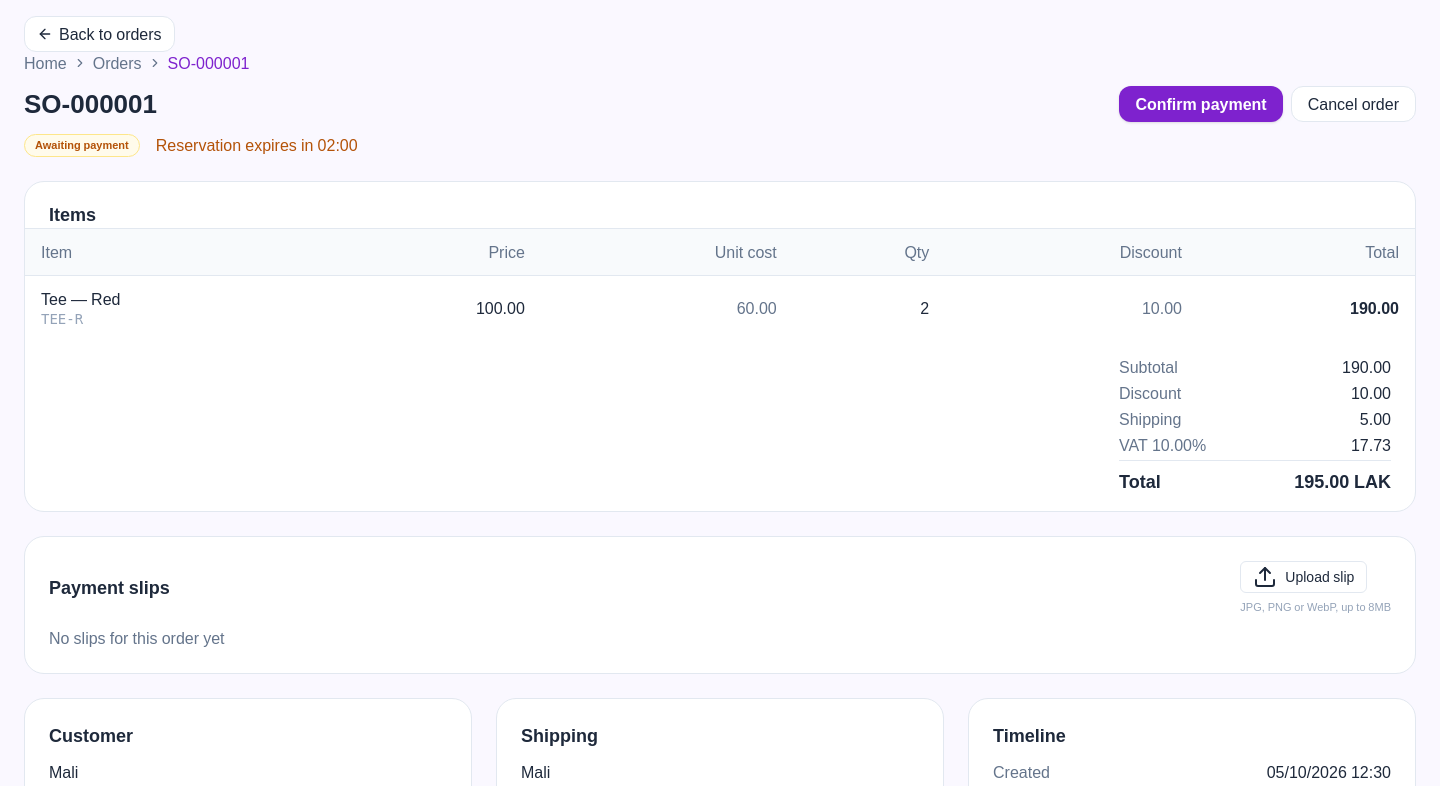
it: OrderDetail: ປຸ່ມຂັ້ນຕໍ່ໄປ › RESERVATION_EXPIRED: ຂໍ້ຄວາມແປ; ປຸ່ມກັບມາໃຊ້ໄດ້ (ບໍ່ຄ້າງ pending)
The width and height of the screenshot is (1440, 786).
Step 1. Click the button "Confirm payment" → (1201,104), box [1119,86,1283,122]
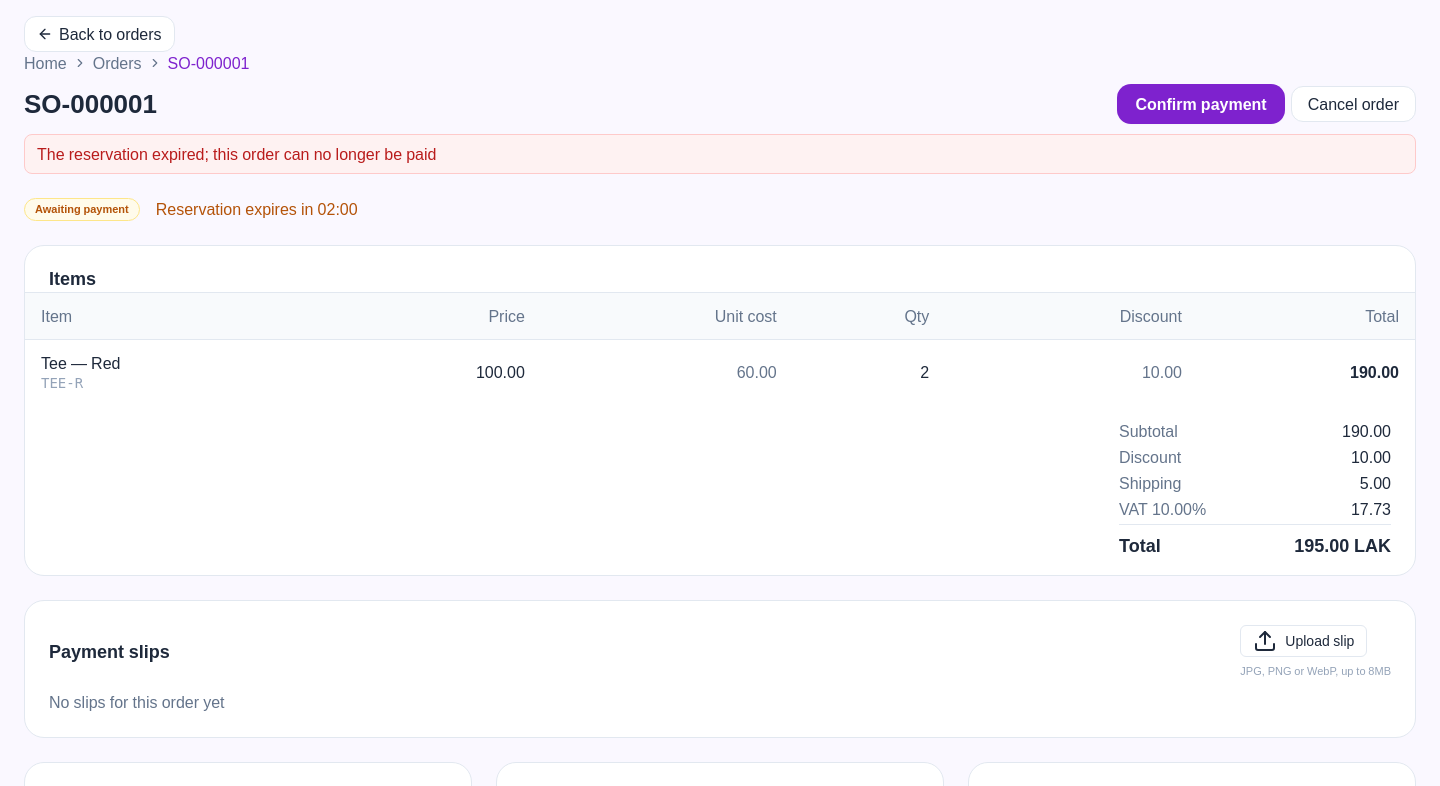
Check: the message shows "The reservation expired", box [37,141,436,167]
